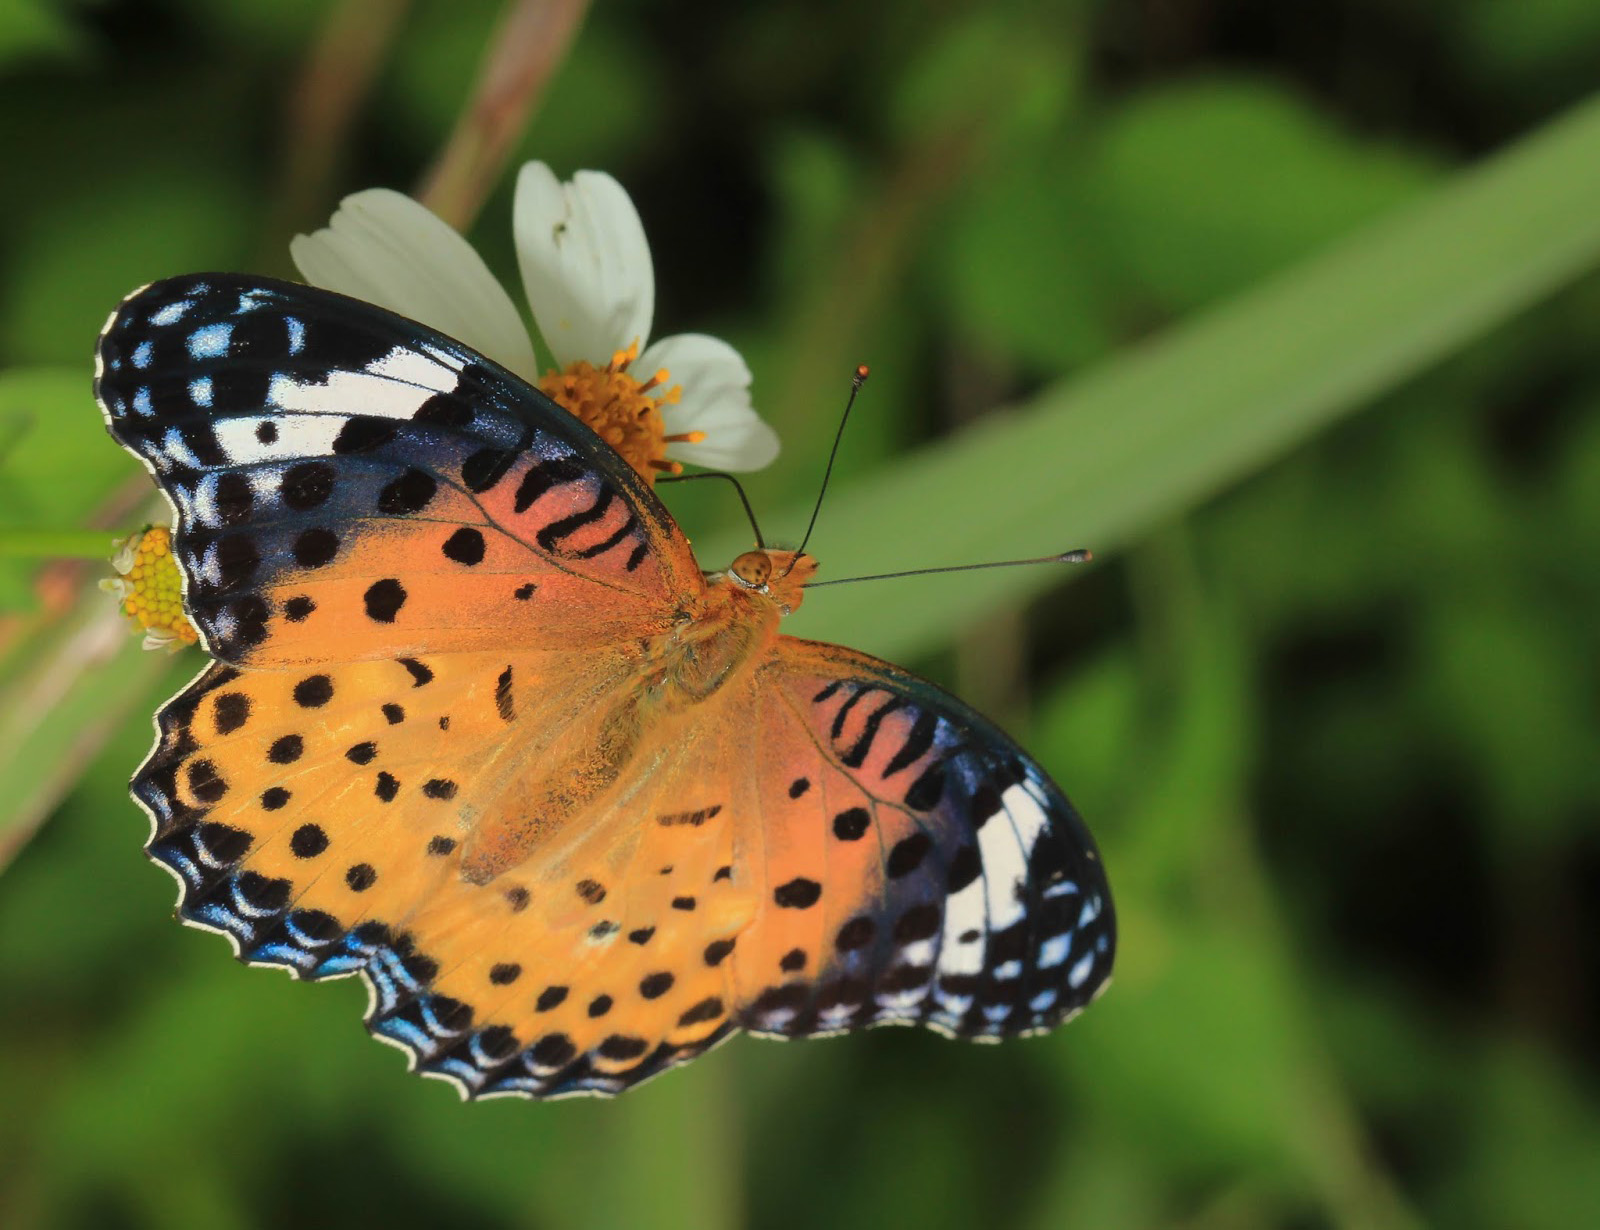Argyreus hyperbius: (72, 249, 1129, 1112)
butterfly: (74, 251, 1131, 1115)
